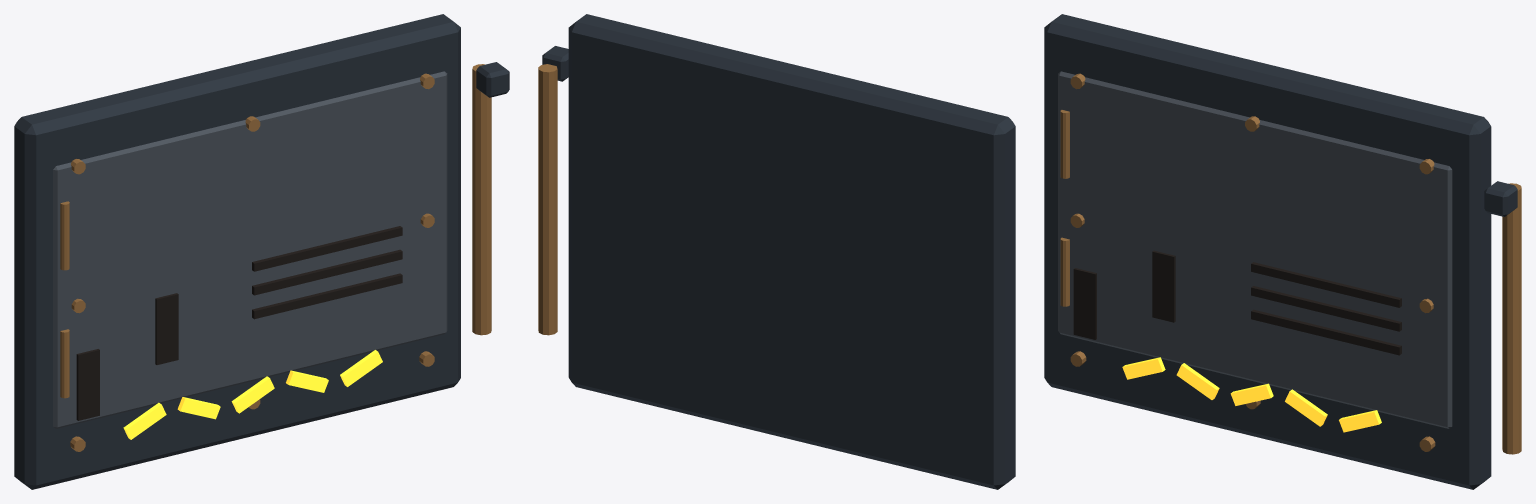
File: runtime.glb
3 views of the same model, side by side, from view 1: azimuth 30°, elevation 25°; view 2: azimuth 150°, elevation 25°; view 3: azimuth 330°, elevation 25° (orthographic).
Parts seen in each view (by area): view 1: kinetic-tide-maintenance-panel-v01_plate_nocol, kinetic-tide-maintenance-panel-v01_steel_nocol, kinetic-tide-maintenance-panel-v01_weardark_nocol, kinetic-tide-maintenance-panel-v01_bronze_nocol, kinetic-tide-maintenance-panel-v01_warningorange_nocol; view 2: kinetic-tide-maintenance-panel-v01_steel_nocol, kinetic-tide-maintenance-panel-v01_bronze_nocol; view 3: kinetic-tide-maintenance-panel-v01_plate_nocol, kinetic-tide-maintenance-panel-v01_steel_nocol, kinetic-tide-maintenance-panel-v01_weardark_nocol, kinetic-tide-maintenance-panel-v01_bronze_nocol, kinetic-tide-maintenance-panel-v01_warningorange_nocol.
Part boxes in pixels (x1,y1,x2,y2): kinetic-tide-maintenance-panel-v01_plate_nocol: (53, 71, 447, 428); kinetic-tide-maintenance-panel-v01_steel_nocol: (14, 14, 509, 489); kinetic-tide-maintenance-panel-v01_weardark_nocol: (76, 226, 402, 420); kinetic-tide-maintenance-panel-v01_bronze_nocol: (60, 64, 491, 451); kinetic-tide-maintenance-panel-v01_warningorange_nocol: (123, 350, 382, 439); kinetic-tide-maintenance-panel-v01_steel_nocol: (542, 14, 1015, 489); kinetic-tide-maintenance-panel-v01_bronze_nocol: (538, 64, 557, 335); kinetic-tide-maintenance-panel-v01_plate_nocol: (1058, 71, 1452, 428); kinetic-tide-maintenance-panel-v01_steel_nocol: (1044, 14, 1517, 489); kinetic-tide-maintenance-panel-v01_weardark_nocol: (1073, 250, 1401, 355); kinetic-tide-maintenance-panel-v01_bronze_nocol: (1060, 73, 1521, 454); kinetic-tide-maintenance-panel-v01_warningorange_nocol: (1122, 357, 1381, 432).
Bounding box in the file's own units: 4.35 × 3.2 × 0.433.
